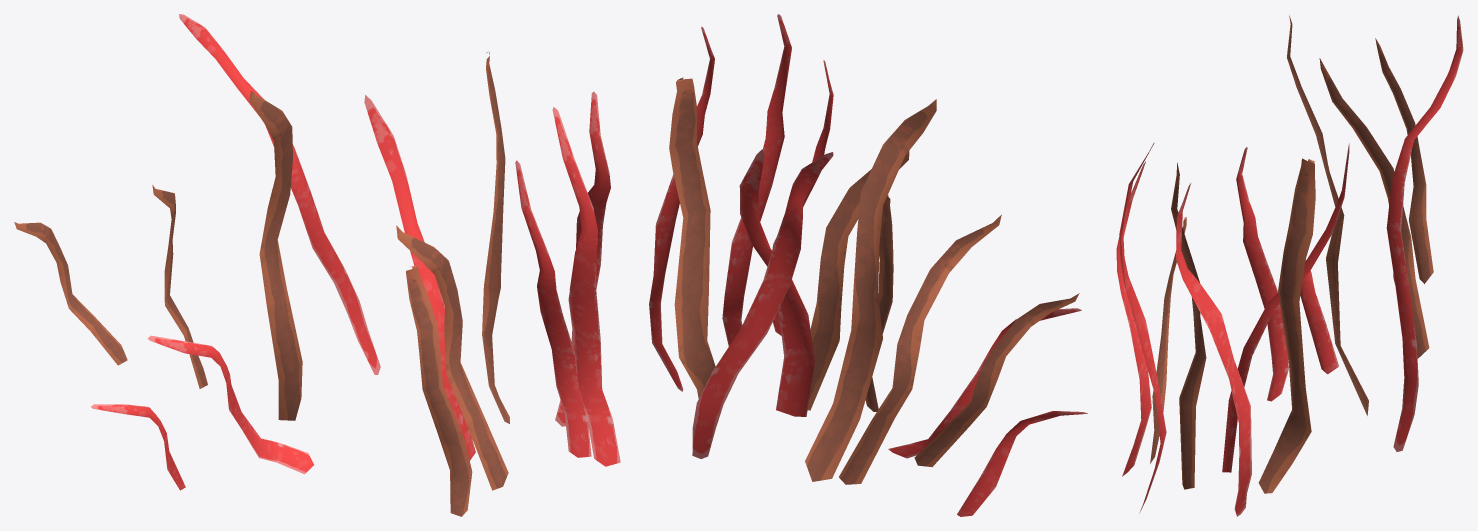
The model's file is zombieWorm_expTank.fbx.
3 renders of one model, left to right at view 1: azimuth 30°, elevation 25°; view 2: azimuth 150°, elevation 25°; view 3: azimuth 270°, elevation 25°, orthographic. The views are drawn at different scales.
Visible parts, largest first — view 1: zombieWorms_expTank; view 2: zombieWorms_expTank; view 3: zombieWorms_expTank.
Part boxes in pixels (x1,y1,x2,y2): zombieWorms_expTank: (14,14,620,516); zombieWorms_expTank: (649,14,1087,516); zombieWorms_expTank: (1116,15,1463,516).
Size of the model in its own units: 1.18 by 0.9133 by 0.7305.
Materials: 2 (2 with a texture image).
